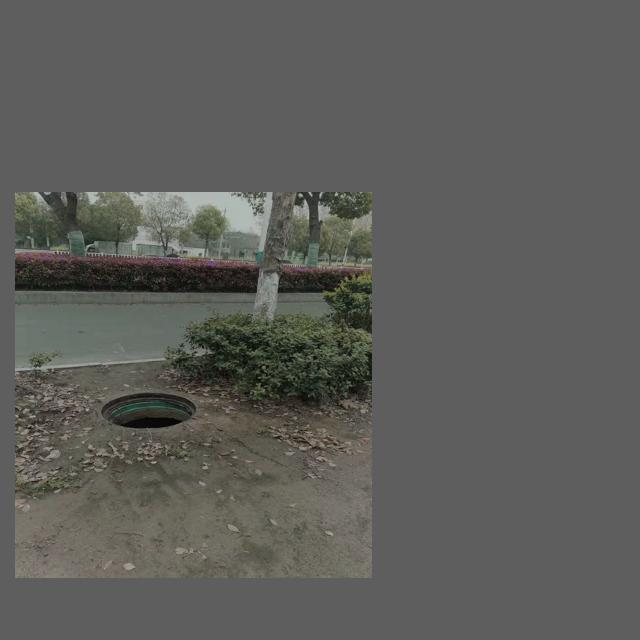lose: (91, 385, 204, 434)
